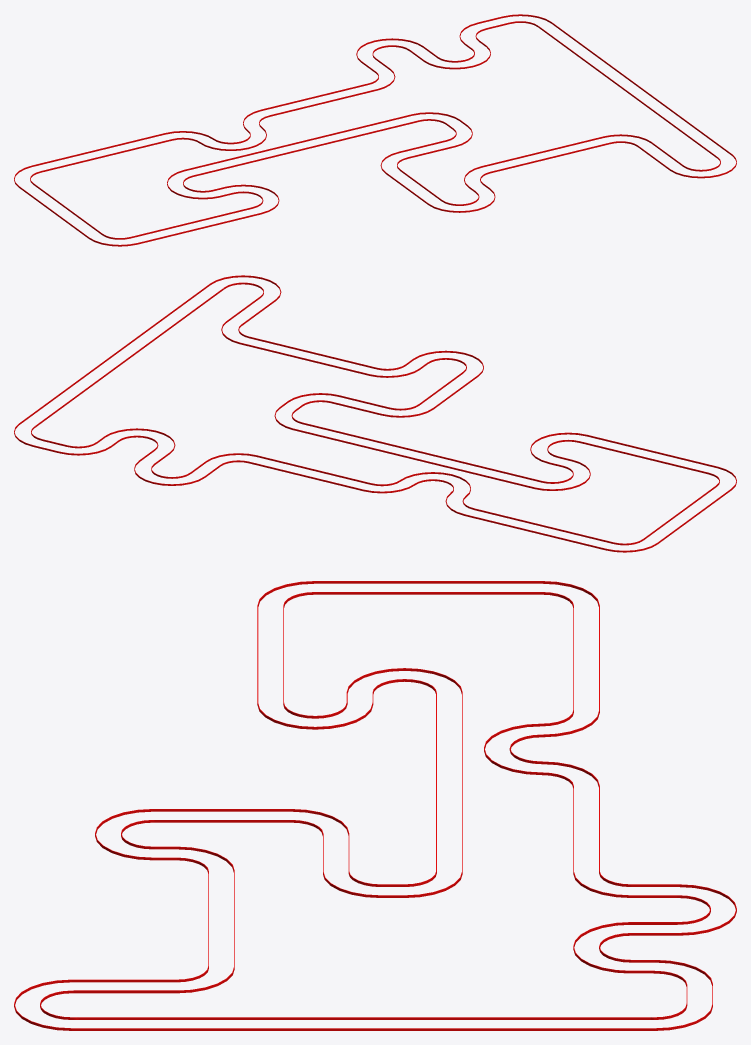
The model's file is pared.dae.
3 renders of one model, top to bottom at view 1: azimuth 30°, elevation 25°; view 2: azimuth 150°, elevation 25°; view 3: azimuth 270°, elevation 25°, orthographic. The views are drawn at different scales.
Parts seen in each view (by area): view 1: group_0 (×3); view 2: group_0 (×3); view 3: group_0 (×3).
Boxes of the visible parts, box(x1,y1,x2,y2) form: group_0 (×3): box(14, 14, 736, 246); group_0 (×3): box(14, 275, 736, 552); group_0 (×3): box(14, 581, 736, 1030).
Bounding box in the file's own units: 6185 × 4223 × 15.75.
